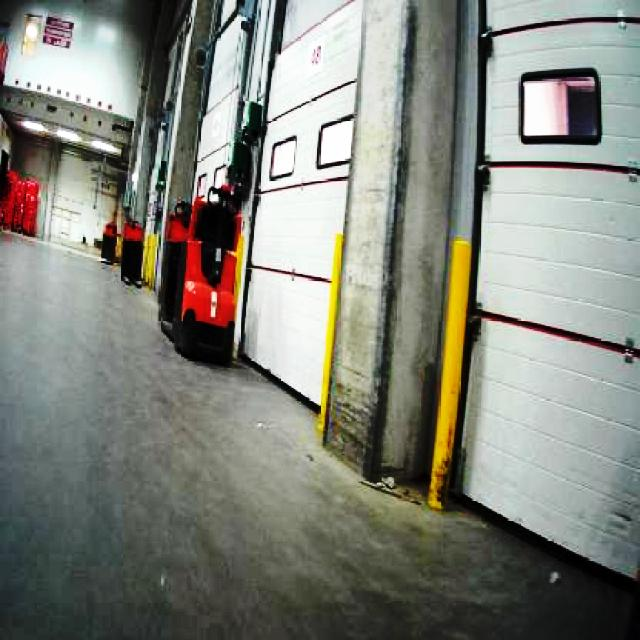ground: (0, 222, 638, 638)
pallet: (0, 169, 38, 235), (48, 203, 82, 245)
